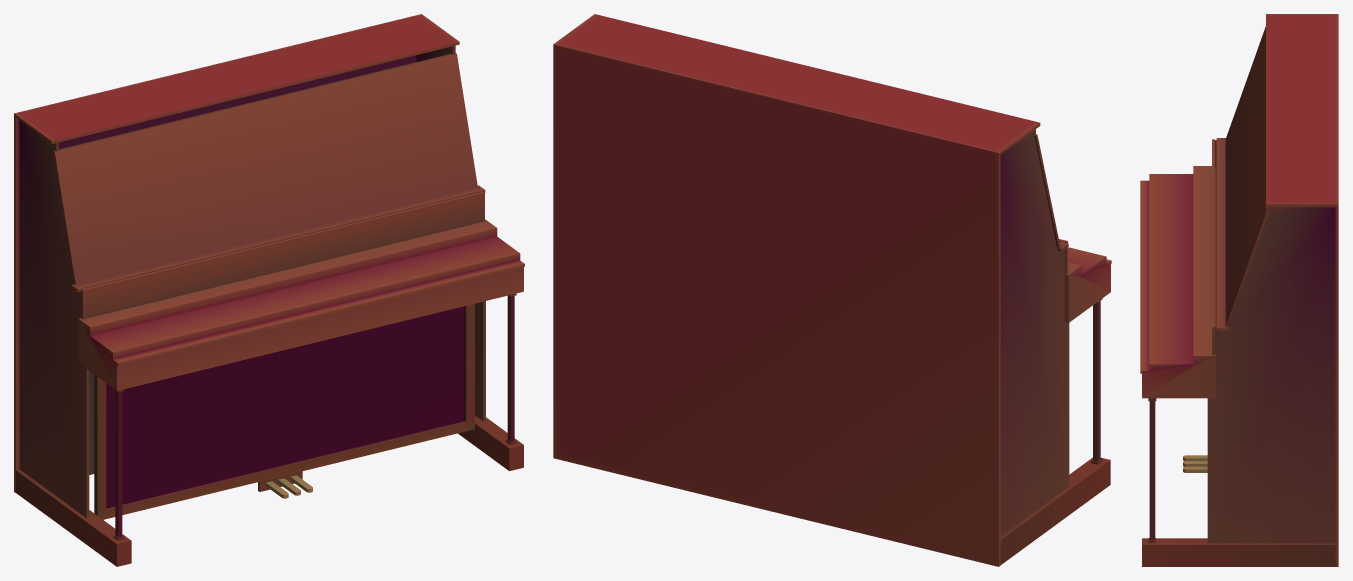
3 renders of one model, left to right at view 1: azimuth 30°, elevation 25°; view 2: azimuth 150°, elevation 25°; view 3: azimuth 270°, elevation 25°, orthographic. The views are drawn at different scales.
Visible parts, largest first — view 1: back, panel, keyboard_case, foot, foot.001, support, support.001; view 2: back, foot, keyboard_case, support; view 3: back, keyboard_case, foot.001, support.001.
Boxes of the visible parts, x1=… form: back: x1=14, y1=14, x2=485, y2=518; panel: x1=94, y1=303, x2=474, y2=519; keyboard_case: x1=78, y1=219, x2=524, y2=390; foot: x1=16, y1=469, x2=131, y2=566; foot.001: x1=458, y1=416, x2=523, y2=470; support: x1=113, y1=389, x2=123, y2=540; support.001: x1=506, y1=293, x2=516, y2=444; back: x1=553, y1=14, x2=1069, y2=566; foot: x1=1000, y1=457, x2=1110, y2=564; keyboard_case: x1=1064, y1=247, x2=1111, y2=322; support: x1=1091, y1=298, x2=1102, y2=464; back: x1=1207, y1=14, x2=1338, y2=566; keyboard_case: x1=1140, y1=166, x2=1215, y2=398; foot.001: x1=1142, y1=538, x2=1335, y2=566; support.001: x1=1148, y1=398, x2=1156, y2=542.
Size of the model in its own units: 1.5 by 1.33 by 0.6605.
